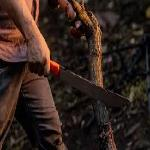Golok: (40, 52, 132, 114)
